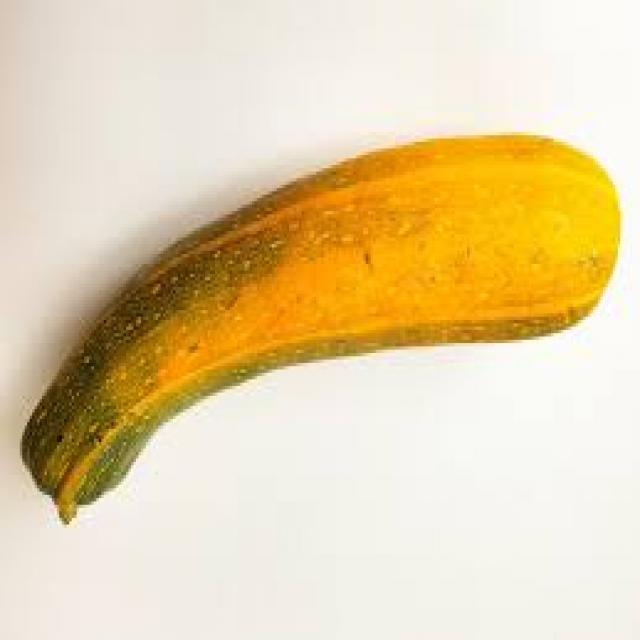organic waste: (15, 128, 615, 514)
